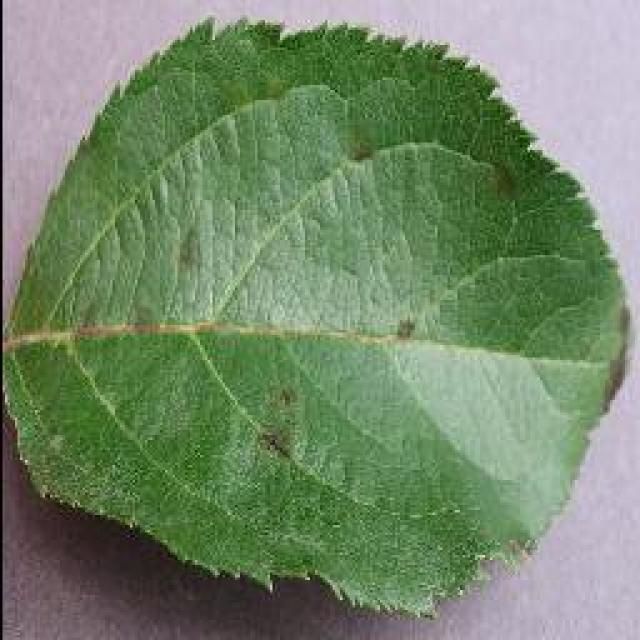apple scab disease: (0, 12, 632, 619)
